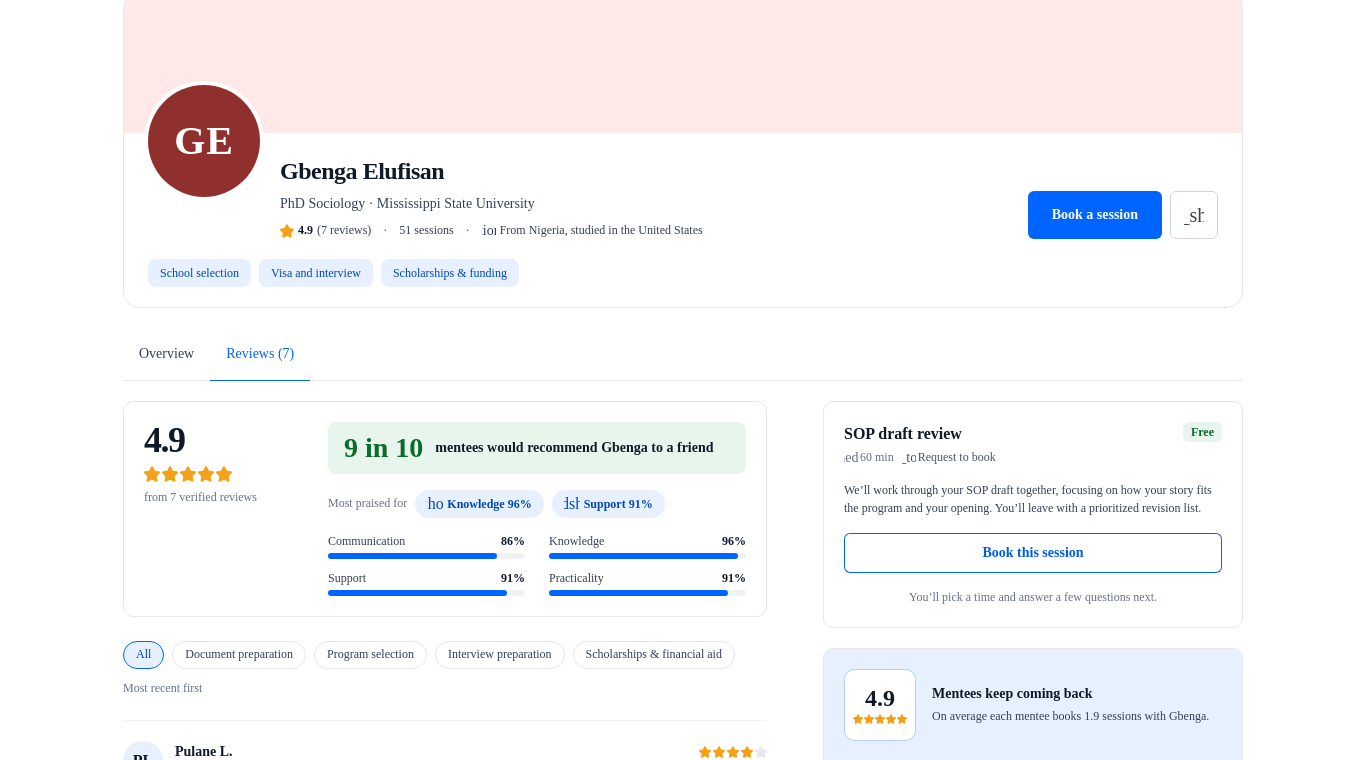
Test case: MentorProfileScreen — Reviews tab › a guest under a topic: the gate counts the rest of that topic
Click the button "Program selection".
click(370, 655)  # box top-left (314, 641), bottom-right (427, 669)
(page scrolled)
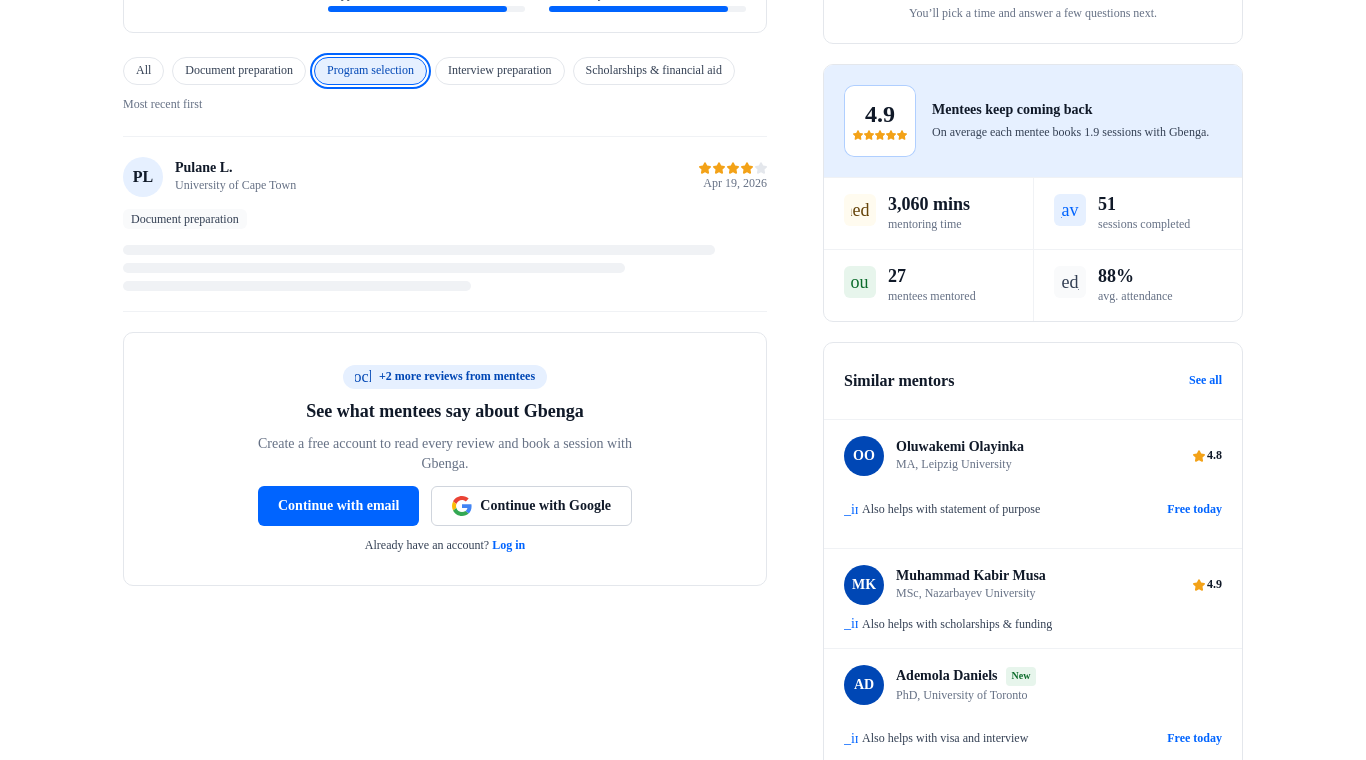
Check: the text "+2 more reviews from mentees" is shown, box top-left (379, 369), bottom-right (535, 383)
